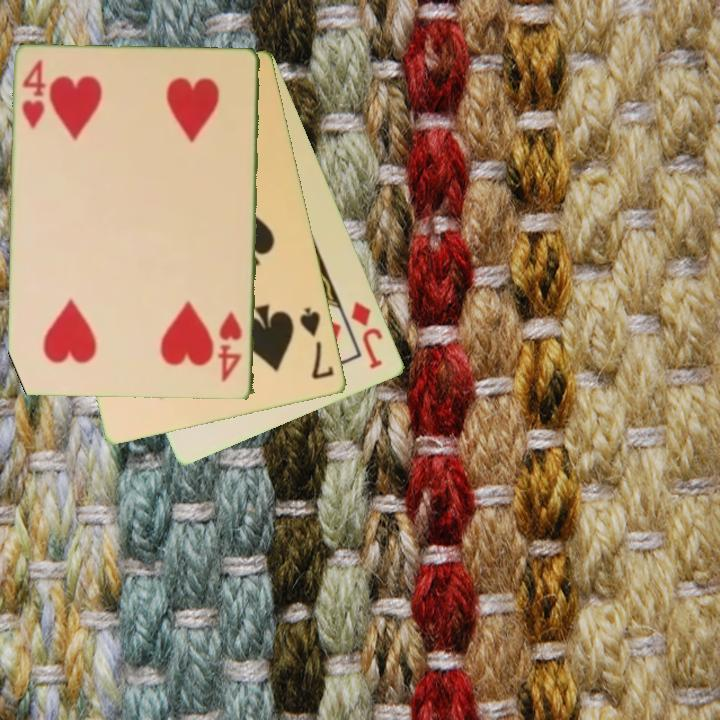4h: (19, 56, 50, 132), (217, 309, 245, 385)
7s: (296, 304, 337, 383)
Jd: (347, 297, 386, 372)
